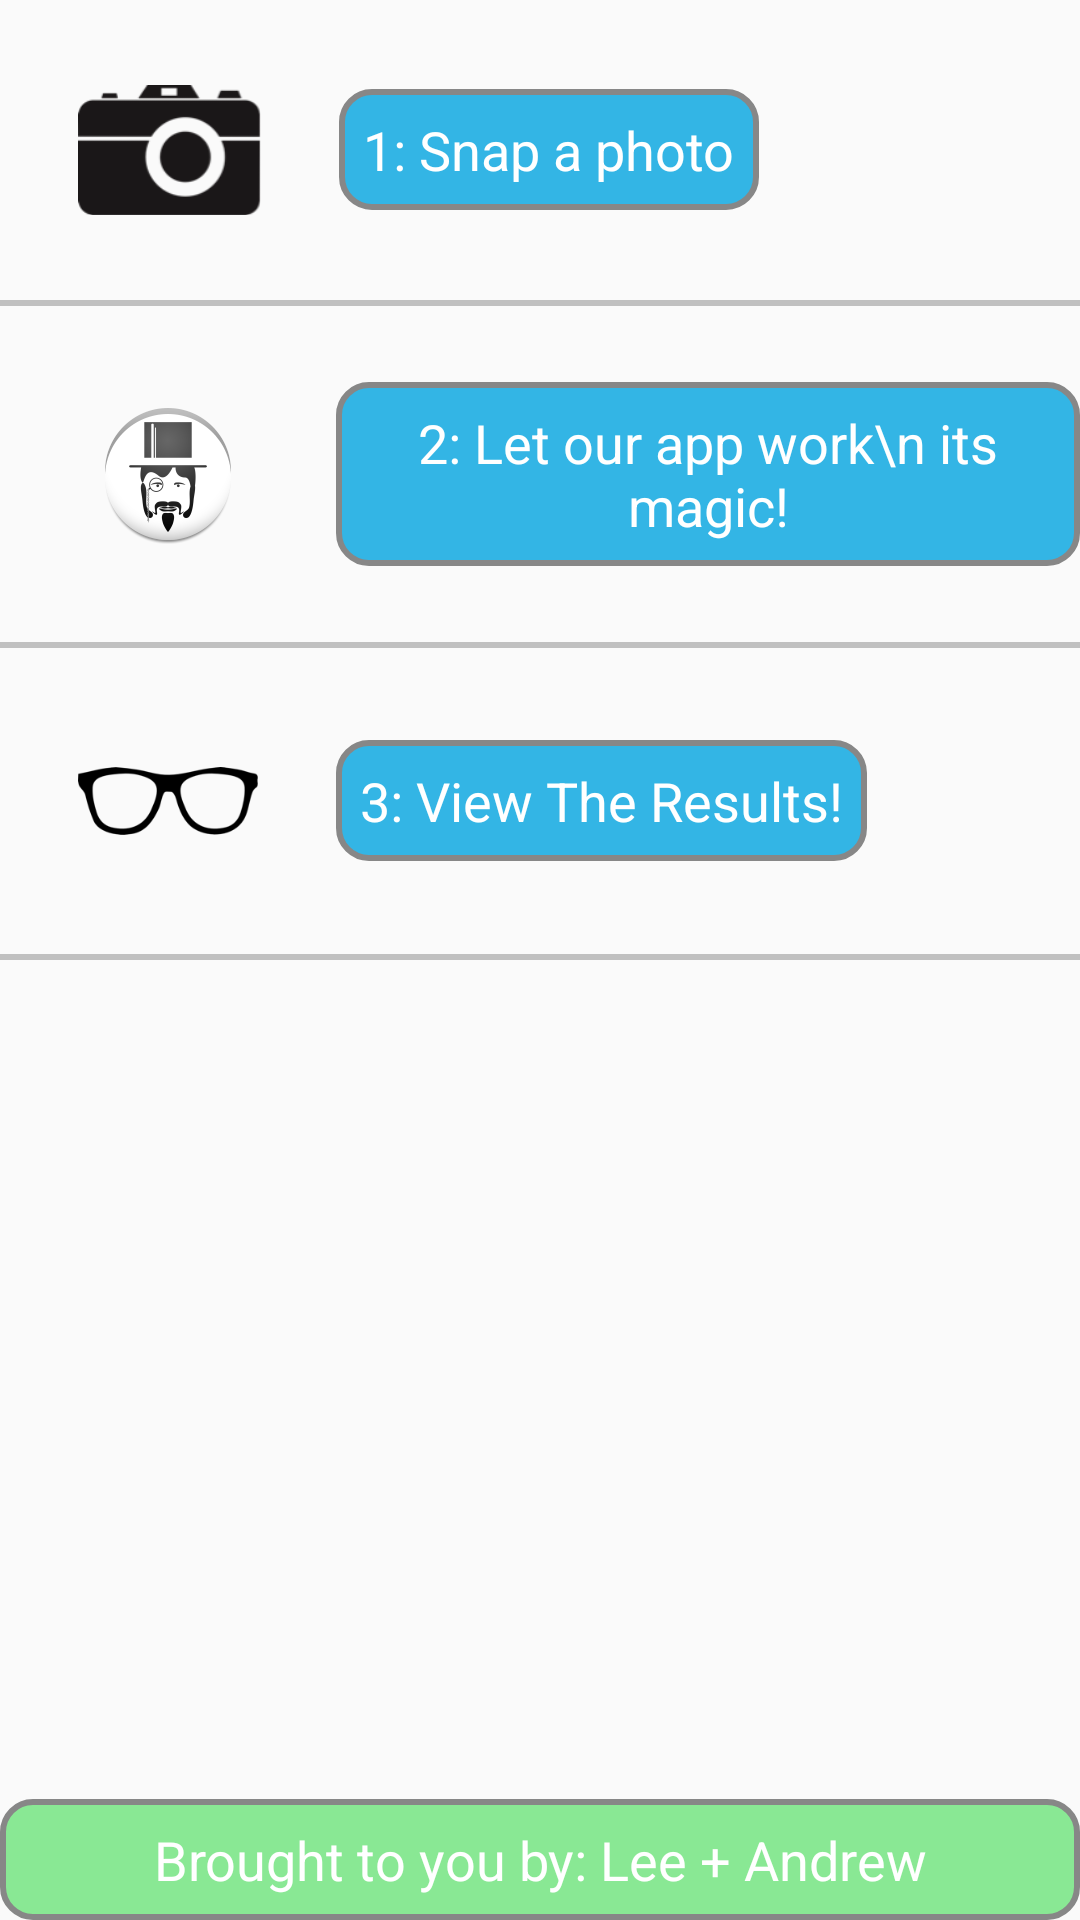

Screen size 1080 x 1920. Icon name, then its center in pixels as (x,y):
camera: (169,150)
glasses: (168,801)
